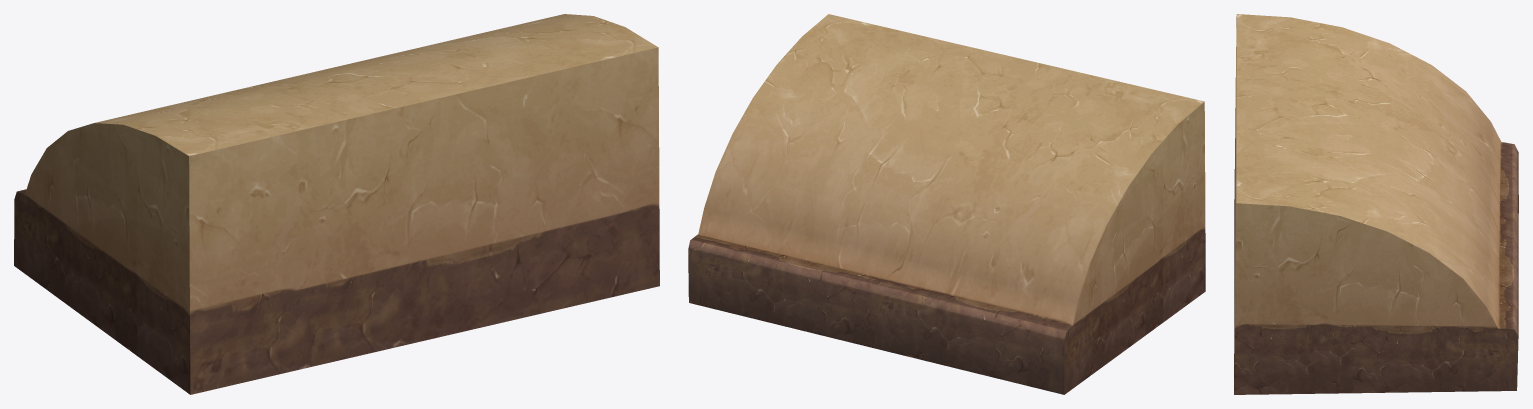
File: DE_House_Mod_Part_41.fbx
3 views of the same model, side by side, from view 1: azimuth 30°, elevation 25°; view 2: azimuth 150°, elevation 25°; view 3: azimuth 270°, elevation 25° (orthographic). The views are drawn at different scales.
Parts seen in each view (by area): view 1: DE_House_Mod_Part_41; view 2: DE_House_Mod_Part_41; view 3: DE_House_Mod_Part_41.
Boxes of the visible parts, <box> form: DE_House_Mod_Part_41: <box>14,14,659,394</box>; DE_House_Mod_Part_41: <box>688,14,1205,394</box>; DE_House_Mod_Part_41: <box>1234,14,1518,394</box>.
Size of the model in its own units: 4.8 by 2.38 by 3.13.
